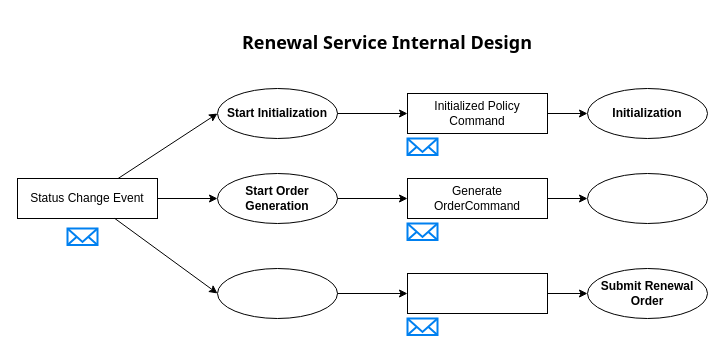
Image size: 725x353. Some labels were removed from this diagram. The centre of each missing label's shape, as x and y in pixels:
Generate Renewal Order: the point at 647,198
Start Order Submission: the point at 277,293
SubmitOrderCommand: the point at 477,293
